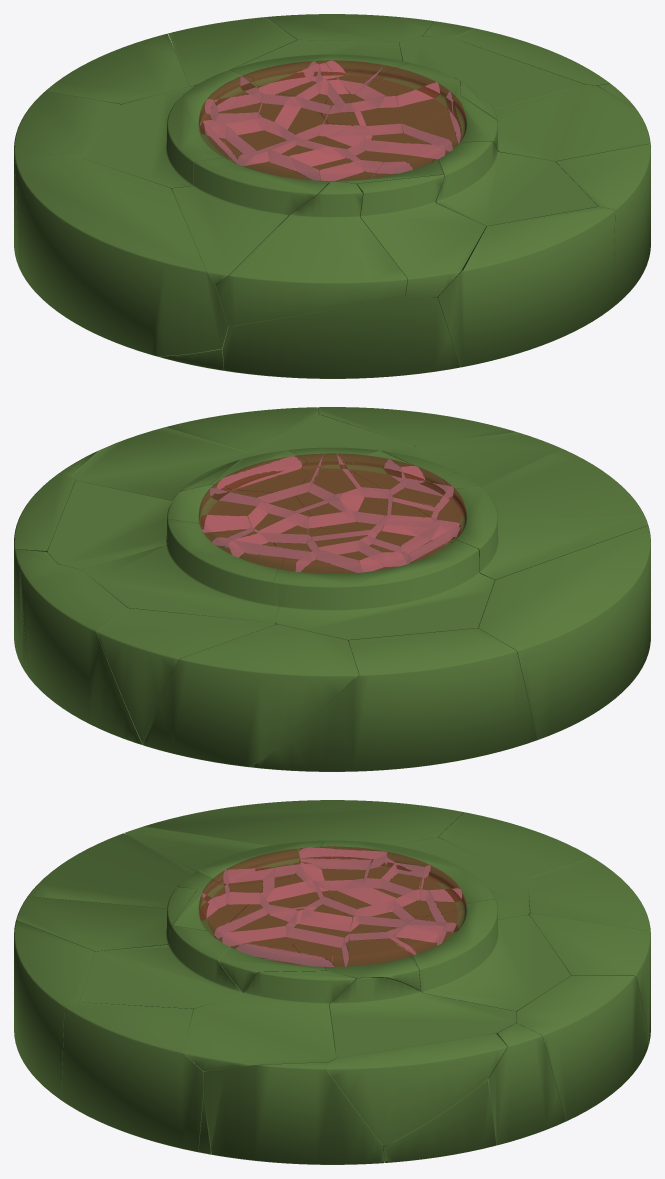
Rendered from mineFragments-col.glb.
3 views of the same model, one above another, from view 1: azimuth 30°, elevation 25°; view 2: azimuth 150°, elevation 25°; view 3: azimuth 270°, elevation 25° (orthographic).
Visible parts, largest first — view 1: Casing_cell.006, Casing_cell.003, Casing_cell.011, Casing_cell.017, Casing_cell.012, Casing_cell.023, Casing_cell.008, Casing_cell.028, Casing_cell.018, Casing_cell.007, Casing_cell, Casing_cell.022 (+37 smaller); view 2: Casing_cell.015, Casing_cell.006, Casing_cell.022, Casing_cell.012, Casing_cell.020, Casing_cell.010, Casing_cell.004, Casing_cell.023, Casing_cell.011, Casing_cell.028, Casing_cell, Casing_cell.008 (+36 smaller); view 3: Casing_cell.007, Casing_cell.024, Casing_cell.020, Casing_cell.028, Casing_cell.010, Casing_cell.025, Casing_cell.006, Casing_cell, Casing_cell.018, Casing_cell.003, Casing_cell.012, Casing_cell.011 (+38 smaller).
Boxes of the visible parts, left/top/right/bottom form: Casing_cell.006: left=15, top=158, right=228, bottom=355; Casing_cell.003: left=433, top=206, right=615, bottom=367; Casing_cell.011: left=215, top=181, right=407, bottom=326; Casing_cell.017: left=222, top=296, right=460, bottom=378; Casing_cell.012: left=82, top=70, right=327, bottom=190; Casing_cell.023: left=172, top=158, right=329, bottom=284; Casing_cell.008: left=357, top=174, right=486, bottom=296; Casing_cell.028: left=460, top=81, right=650, bottom=161; Casing_cell.018: left=433, top=141, right=597, bottom=226; Casing_cell.007: left=555, top=144, right=650, bottom=307; Casing_cell: left=399, top=36, right=584, bottom=109; Casing_cell.022: left=45, top=33, right=189, bottom=104; Casing_cell.015: left=250, top=628, right=536, bottom=771; Casing_cell.006: left=478, top=526, right=650, bottom=740; Casing_cell.022: left=143, top=624, right=358, bottom=767; Casing_cell.012: left=274, top=528, right=494, bottom=640; Casing_cell.020: left=20, top=564, right=142, bottom=745; Casing_cell.010: left=82, top=519, right=284, bottom=622; Casing_cell.004: left=97, top=608, right=276, bottom=743; Casing_cell.023: left=436, top=487, right=648, bottom=581; Casing_cell.011: left=443, top=448, right=644, bottom=522; Casing_cell.028: left=72, top=427, right=249, bottom=500; Casing_cell: left=47, top=480, right=179, bottom=570; Casing_cell.008: left=381, top=432, right=561, bottom=486; Casing_cell.007: left=61, top=1002, right=204, bottom=1152; Casing_cell.024: left=203, top=1062, right=384, bottom=1164; Casing_cell.020: left=516, top=975, right=648, bottom=1121; Casing_cell.028: left=183, top=971, right=355, bottom=1071; Casing_cell.010: left=402, top=899, right=571, bottom=1018; Casing_cell.025: left=326, top=1033, right=506, bottom=1146; Casing_cell.006: left=143, top=800, right=463, bottom=845; Casing_cell: left=329, top=977, right=516, bottom=1058; Casing_cell.018: left=80, top=925, right=241, bottom=1009; Casing_cell.003: left=14, top=920, right=94, bottom=1100; Casing_cell.012: left=316, top=837, right=529, bottom=919; Casing_cell.011: left=27, top=833, right=220, bottom=908.
Size of the model in its own units: 2.42 by 0.5426 by 2.42.
